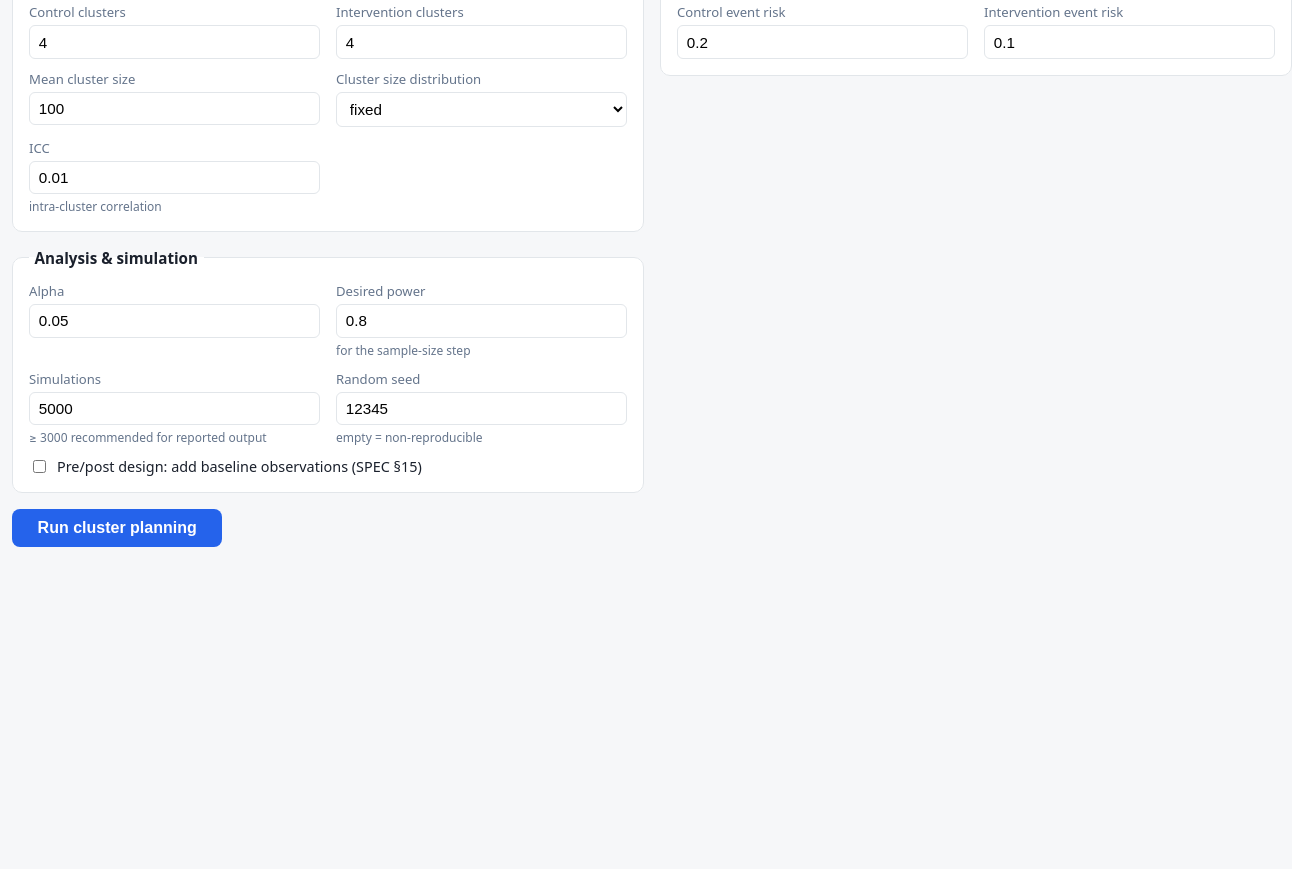
ClusterTrials › runs both requests and renders size cards, analysis table, chart, notes, manifest
The width and height of the screenshot is (1292, 869).
Step 1. Click the button with test id "run-button" → click(117, 528), box [12,509,222,547]
(page scrolled)
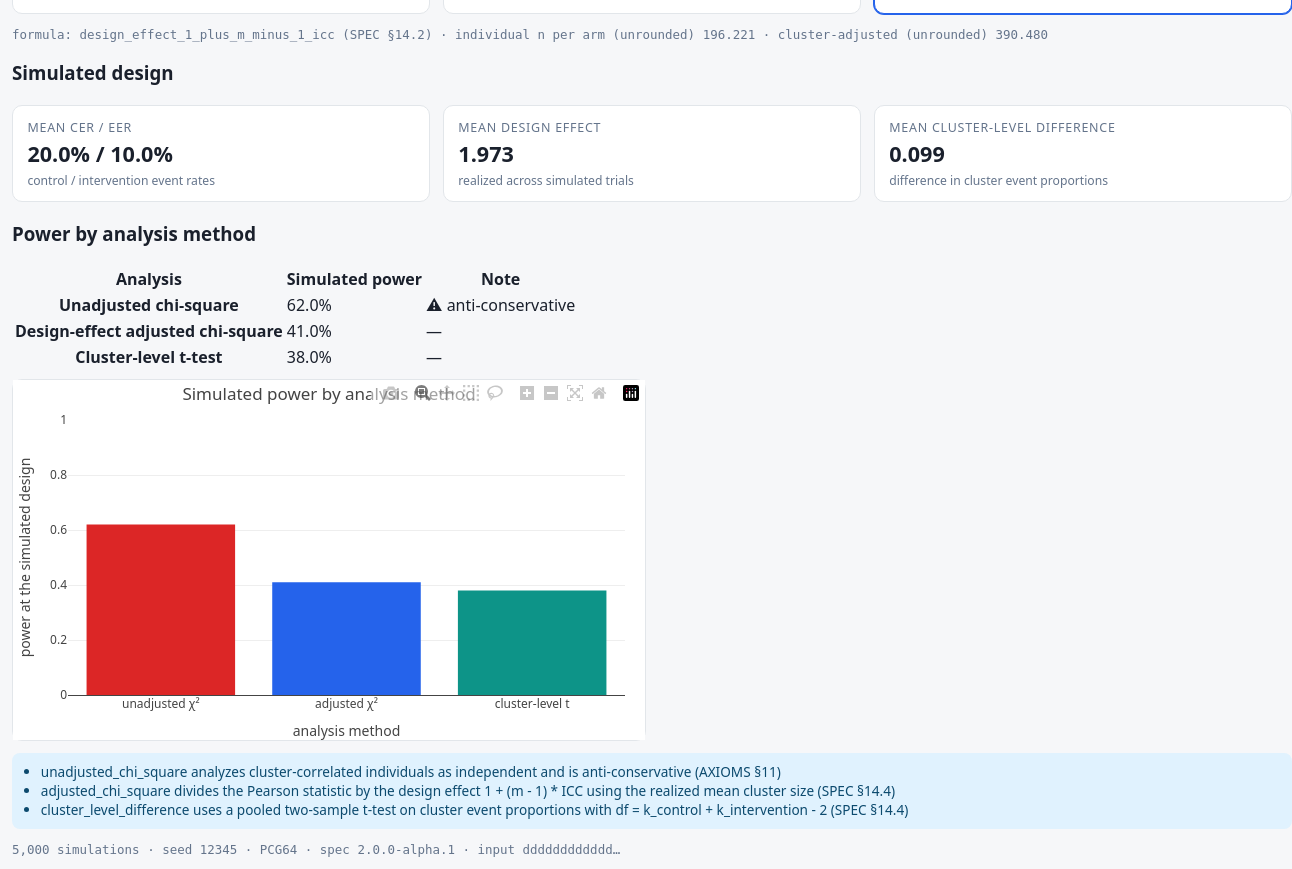
Expected: the text with test id "size-formula" shows "design_effect_1_plus_m_minus_1_icc (SPEC §14.2)", [80,27,432,42]
Expected: the text with test id "size-formula" shows "196.221", [703,27,755,42]
Expected: the element with test id "sim-cards" shows "20.0% / 10.0%", [27,140,173,168]
